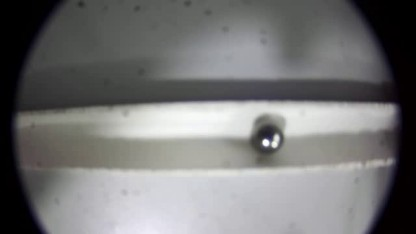gangzhu: (251, 122, 286, 155)
